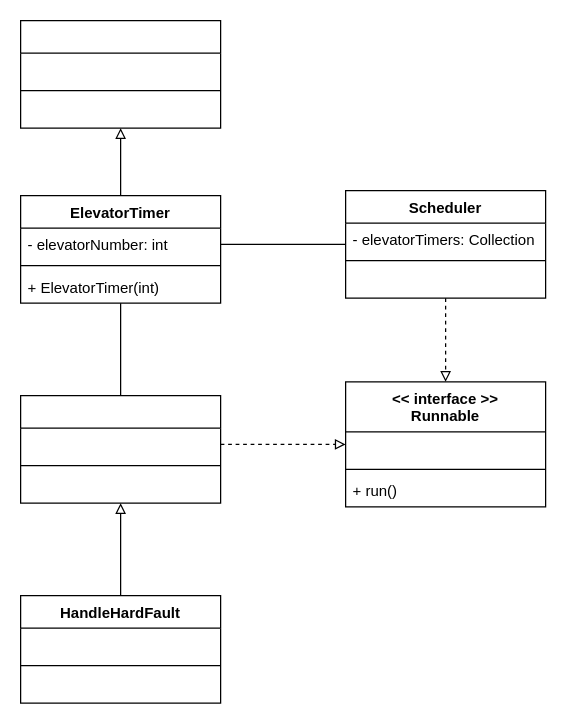
This 566x724 diagram has some shape labels left out. The shapes that lost their labels are listed below. From the top down, each one's centre as x and y in pixels, then its label:
point (120, 73): Timer
point (120, 448): TimerTask
